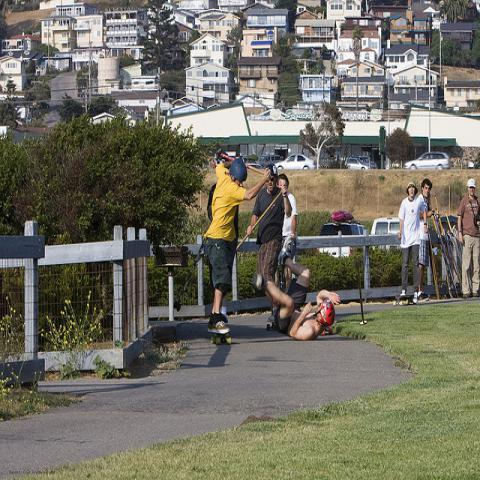car: (404, 151, 450, 169), (321, 220, 368, 236), (275, 154, 316, 170), (370, 218, 399, 236), (257, 154, 281, 168), (356, 156, 378, 170), (347, 158, 370, 170), (316, 247, 339, 257)
